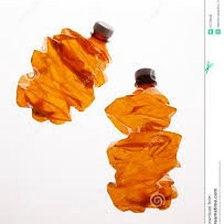bottle: (100, 66, 186, 214), (8, 18, 116, 128)
